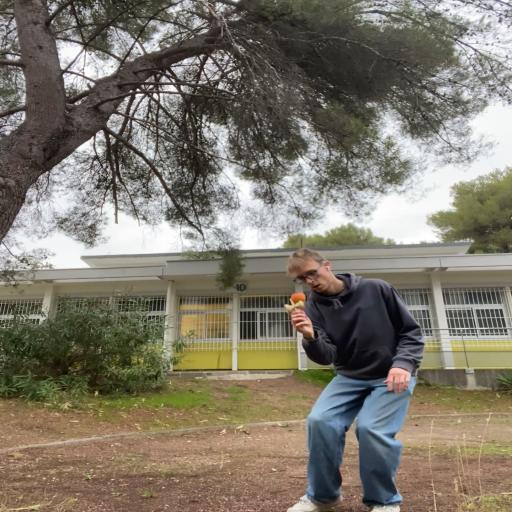kendama_ball: (291, 292, 306, 304)
